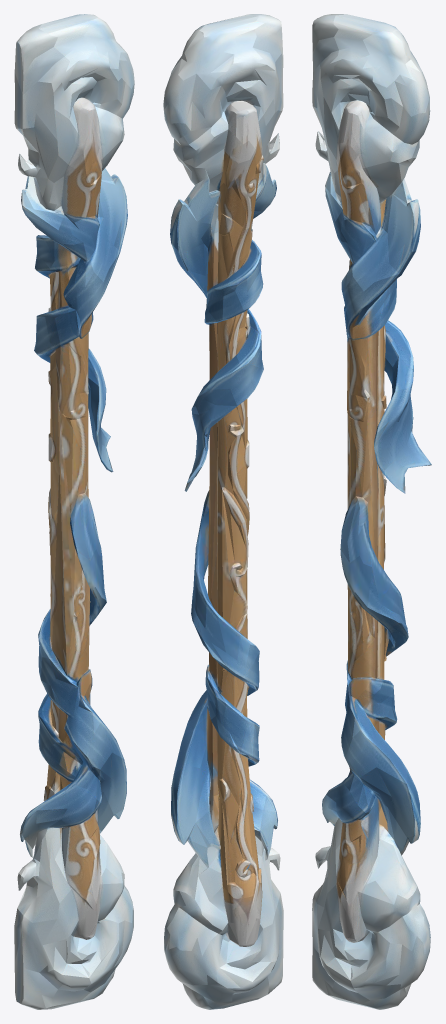
The model's file is StaffWind.fbx.
3 views of the same model, side by side, from view 1: azimuth 30°, elevation 25°; view 2: azimuth 210°, elevation 25°; view 3: azimuth 330°, elevation 25° (orthographic).
Parts seen in each view (by area): view 1: StaffWind; view 2: StaffWind; view 3: StaffWind.
Boxes of the visible parts, left/top/right/bottom form: StaffWind: left=14, top=14, right=134, bottom=1009; StaffWind: left=163, top=14, right=283, bottom=1009; StaffWind: left=312, top=14, right=431, bottom=1009.
Bounding box in the file's own units: 0.2109 × 1.75 × 0.1524.
1 material, 1 textured.
